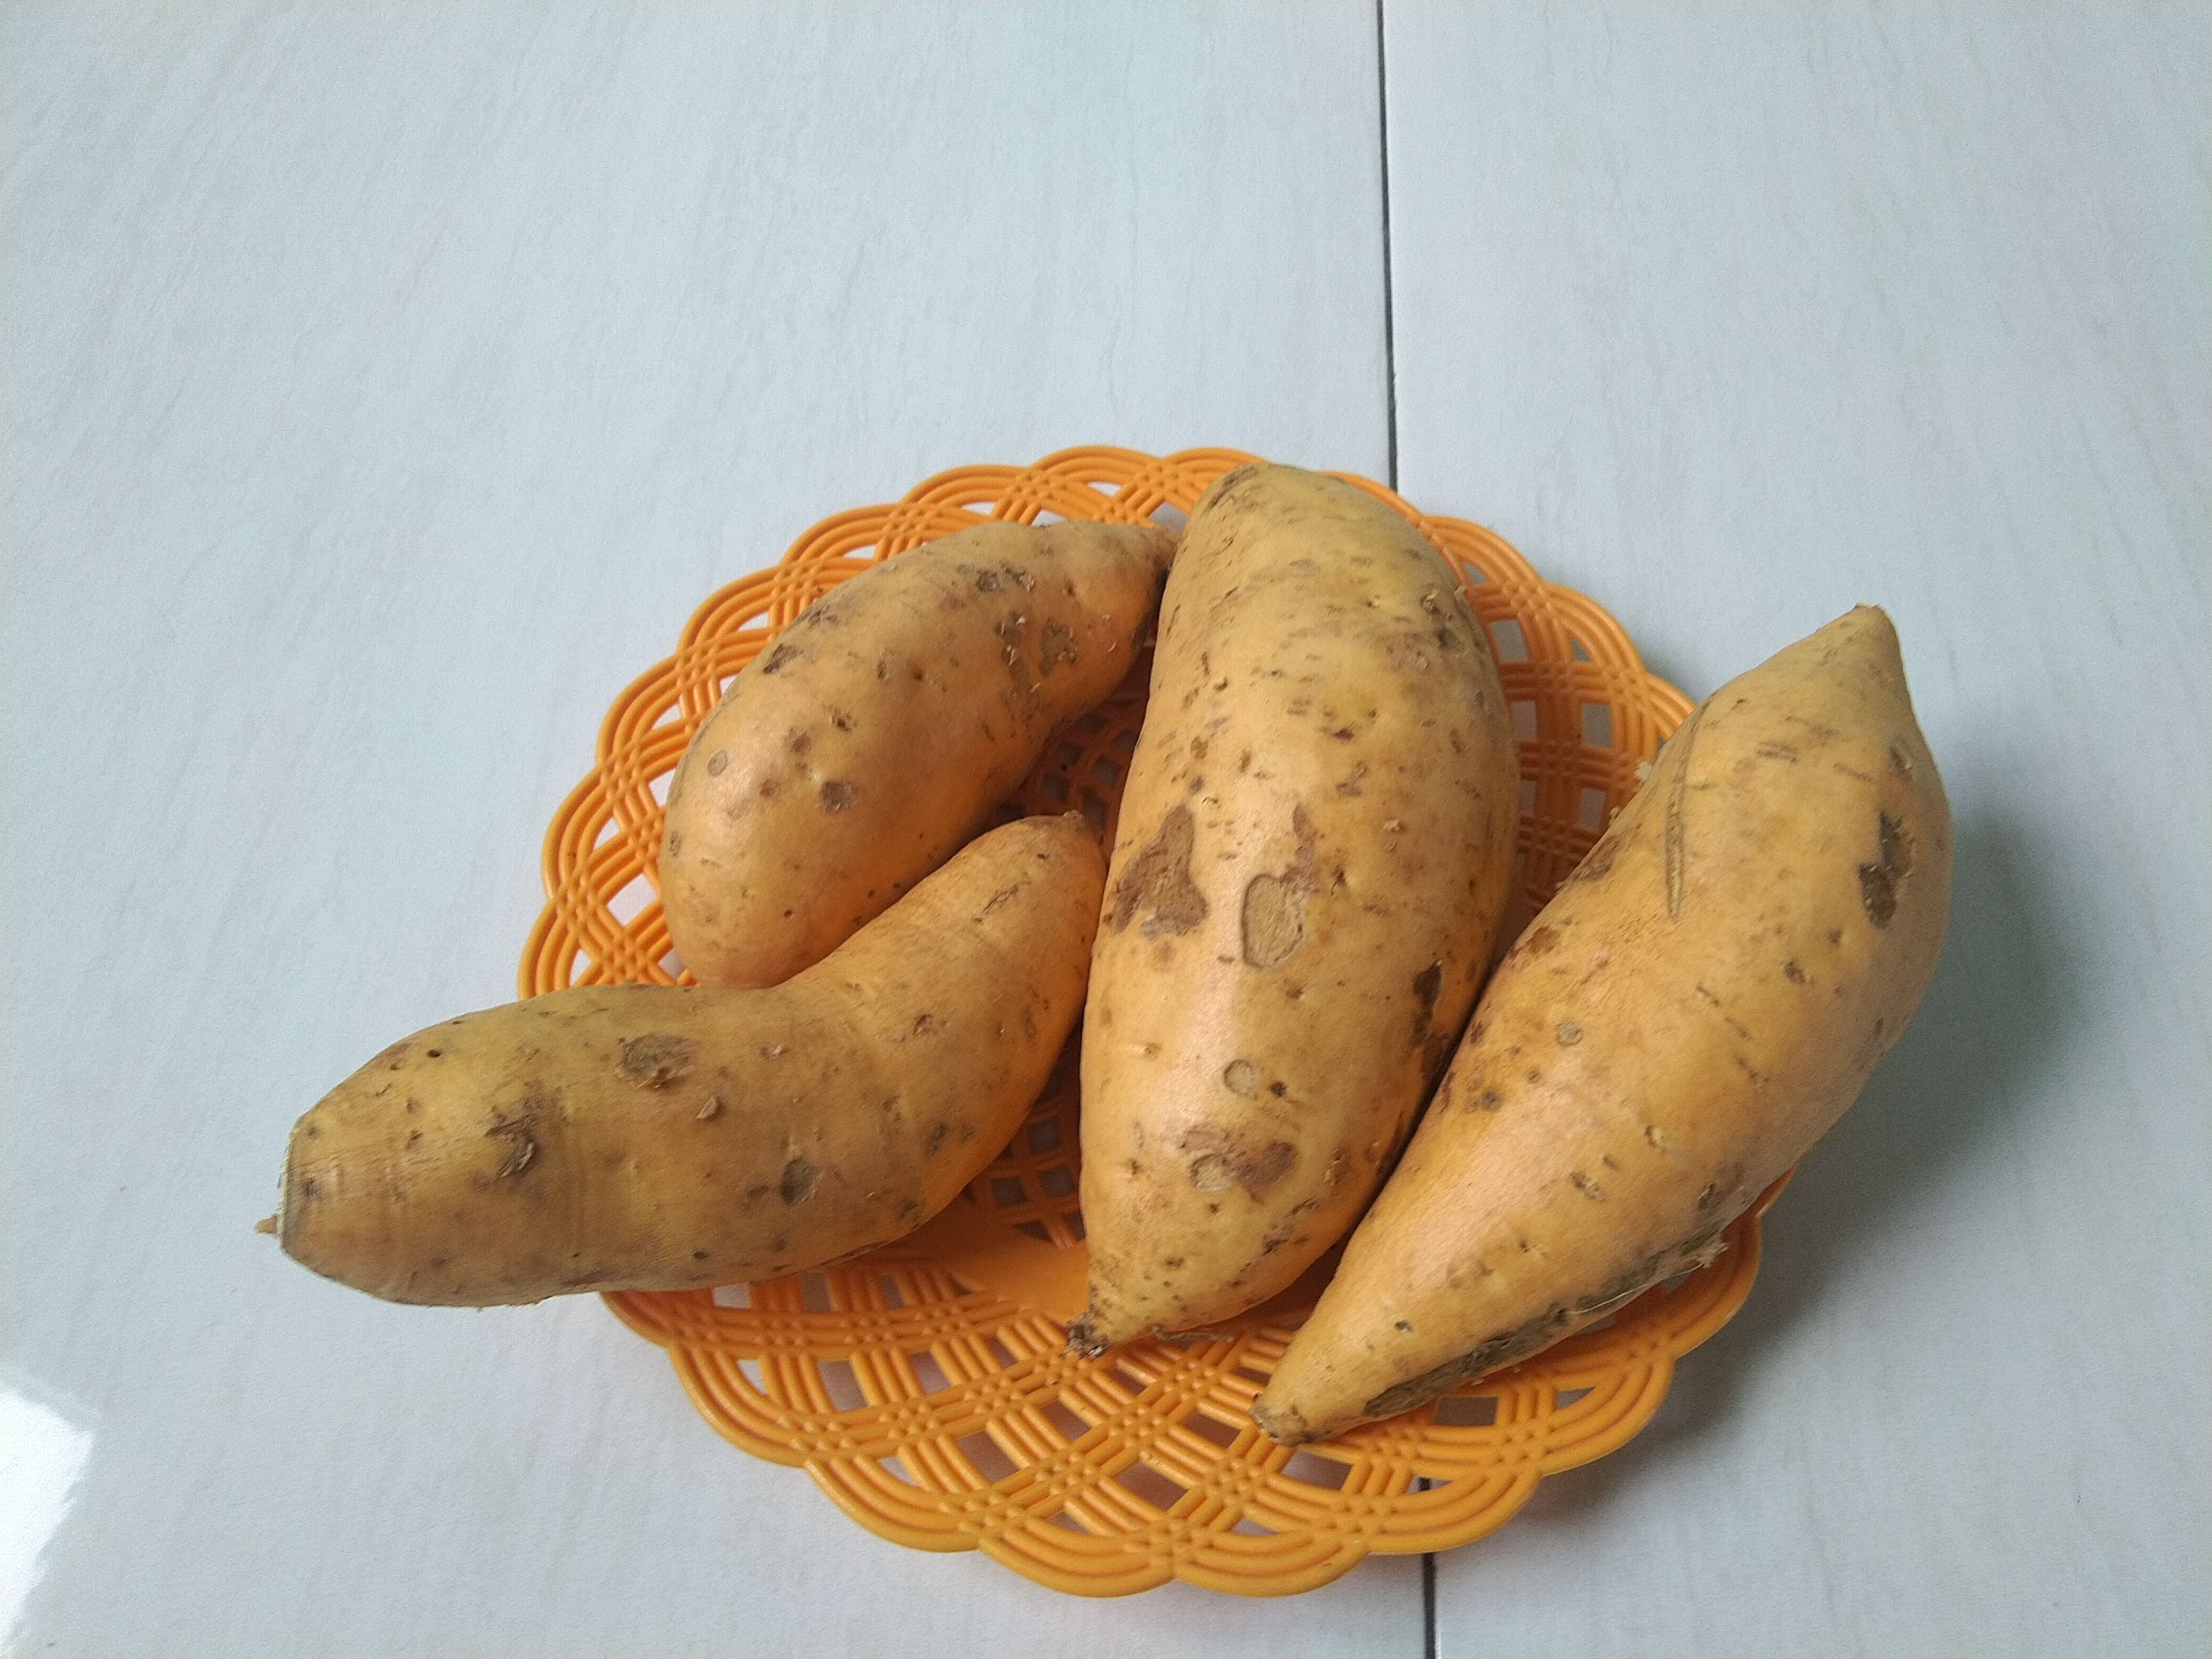ubi cilembu: (272, 446, 2012, 1432), (1242, 586, 1986, 1469), (253, 819, 1115, 1326), (1078, 453, 1522, 1347), (662, 481, 1214, 993)
